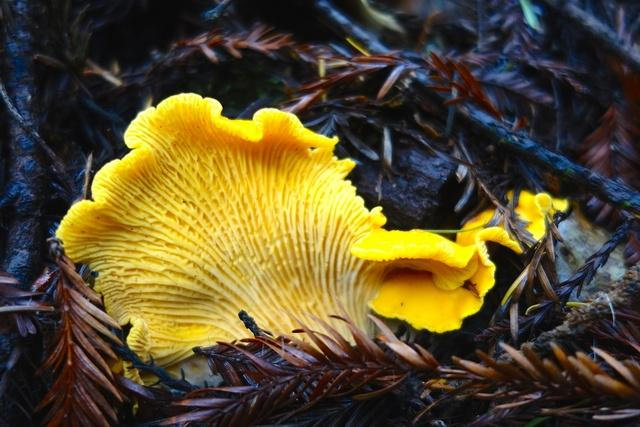edible_mushroom: (52, 91, 521, 392)
